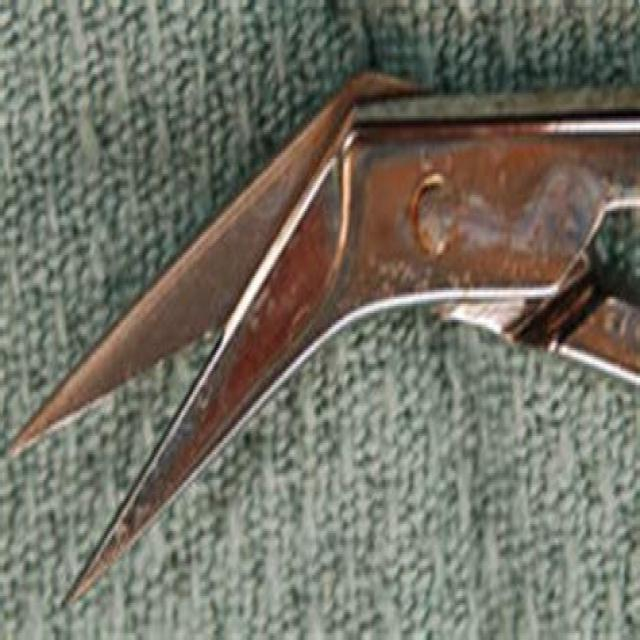Potts: (4, 64, 640, 622)
